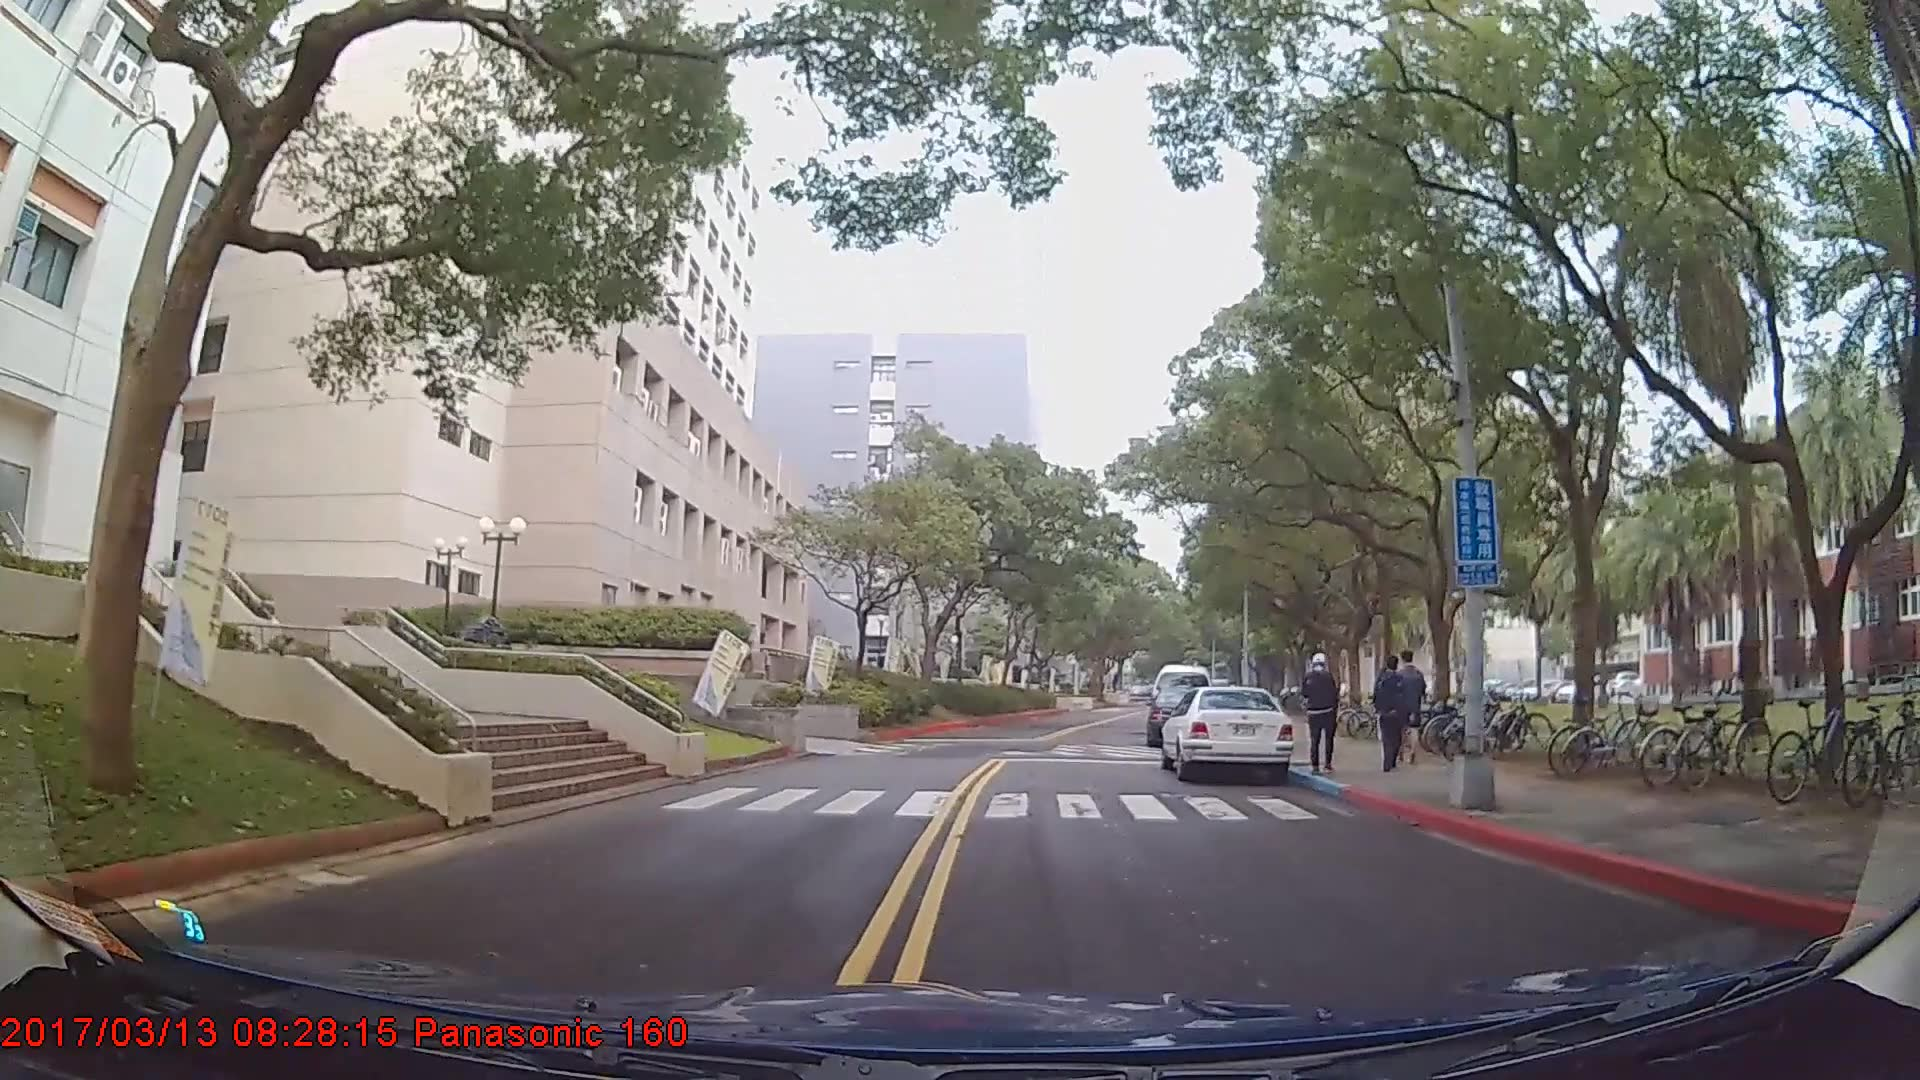pedestrian: (1374, 645, 1417, 773), (1307, 653, 1341, 774)
vehicle: (1157, 685, 1294, 783)
